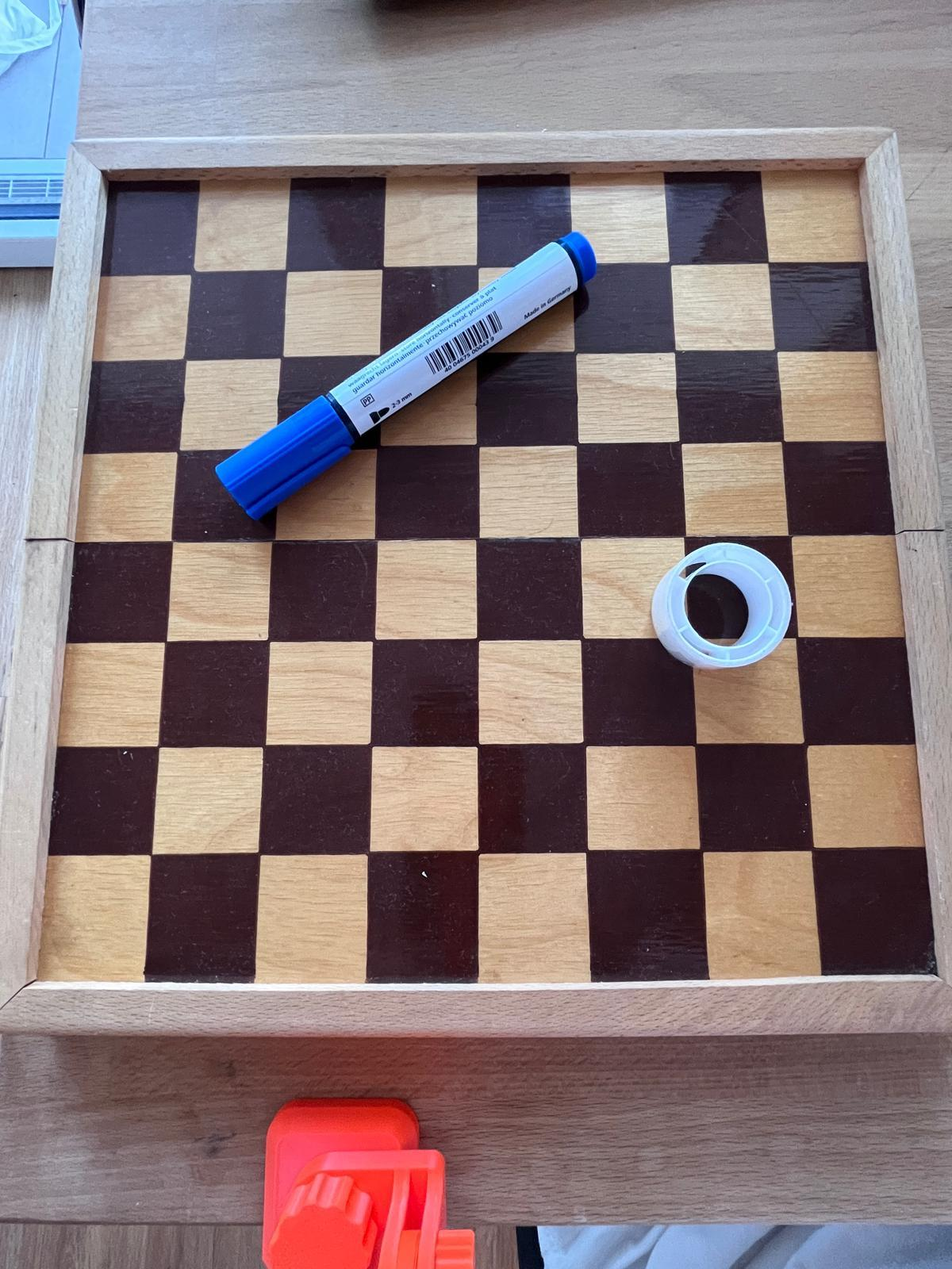marker: (206, 230, 605, 523)
tape: (651, 542, 793, 672)
